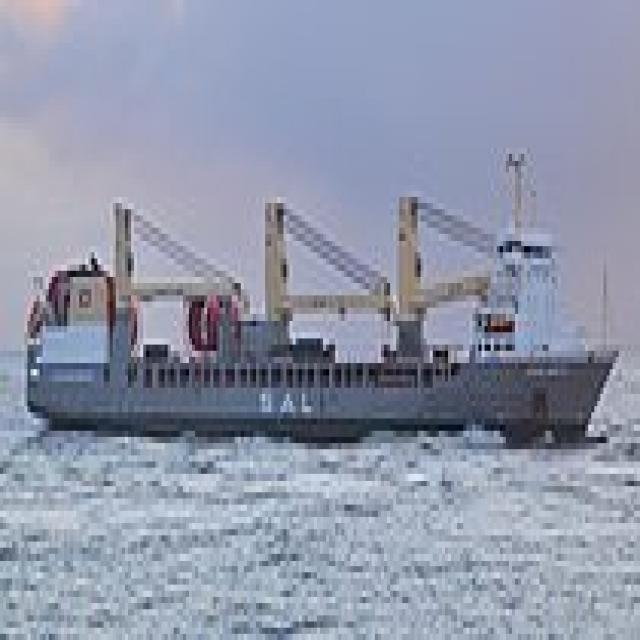Ship: (16, 143, 623, 469)
